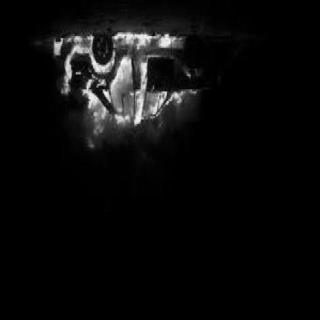Fire: (36, 23, 230, 161)
